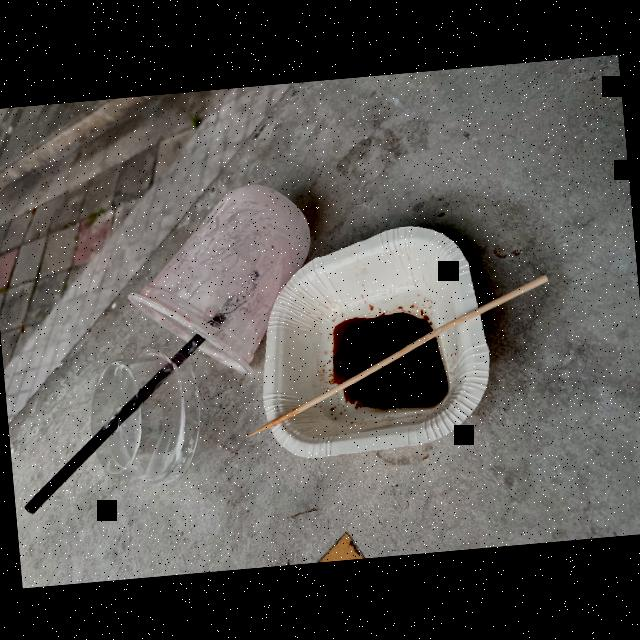cardboard_bowl: (250, 213, 499, 454)
plastic_cup: (112, 176, 320, 368)
plastic_cup_lid: (83, 342, 196, 488)
stick: (233, 251, 566, 454)
straw: (15, 327, 217, 529)
